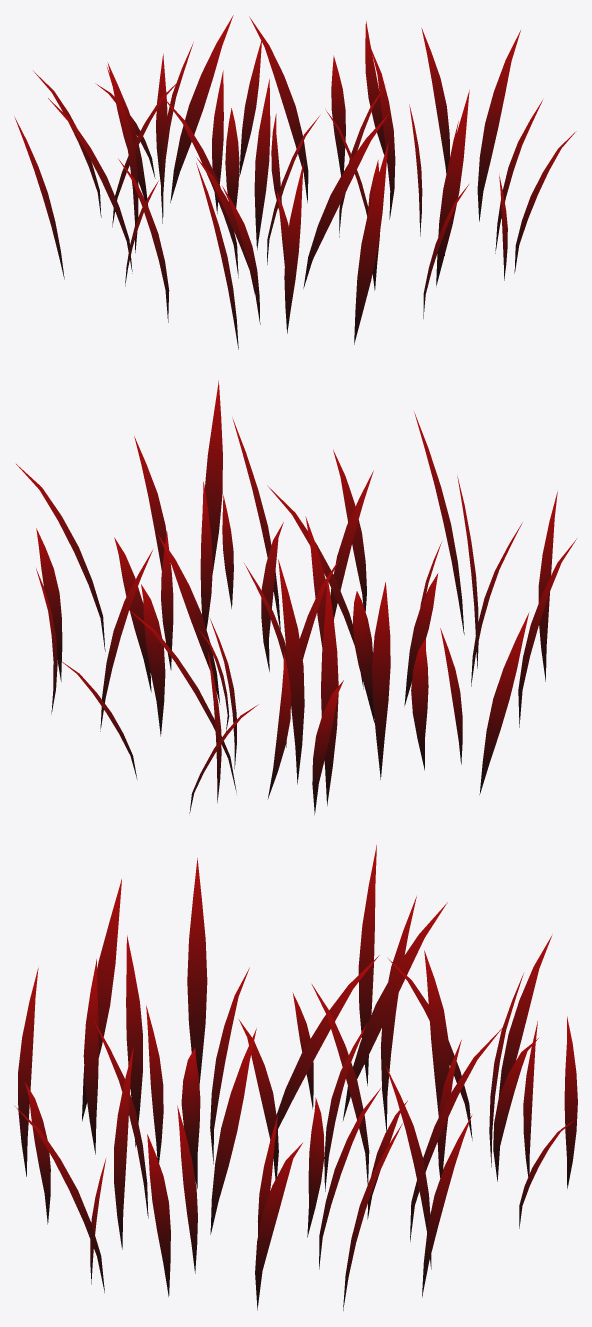
The model's file is Grass.fbx.
The picture shows the model from 3 angles, top to bottom: view 1: azimuth 30°, elevation 25°; view 2: azimuth 150°, elevation 25°; view 3: azimuth 270°, elevation 25°; orthographic projection. The views are drawn at different scales.
Parts seen in each view (by area): view 1: Grass; view 2: Grass; view 3: Grass.
Part boxes in pixels (x1,y1,x2,y2): Grass: [14, 15, 576, 349]; Grass: [16, 380, 576, 814]; Grass: [14, 845, 577, 1310].
Size of the model in its own units: 3.31 by 1.27 by 2.74.
